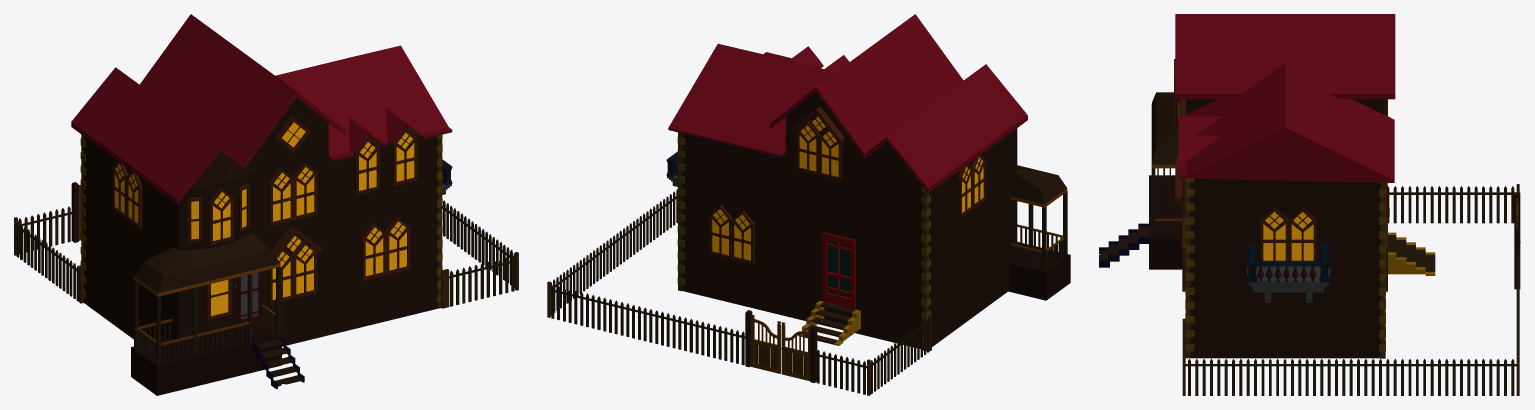
The picture shows the model from 3 angles, left to right: view 1: azimuth 30°, elevation 25°; view 2: azimuth 150°, elevation 25°; view 3: azimuth 270°, elevation 25°; orthographic projection. The views are drawn at different scales.
Visible parts, largest first — view 1: Bina, Pencereler, Balkon, Citler, Kapı.000, Cube.003, Cube.002, NurbsPath; view 2: Bina, Citler, Pencereler, Balkon, NurbsPath, Kapı.001, Cube, Cube.002, Cube.001; view 3: Bina, Citler, Pencereler, Balkon, Pencereler.001, Cube, Cube.003, Cube.001, NurbsPath.
Part boxes in pixels (x1,y1,x2,y2): Bina: (71,14,452,346); Pencereler: (112,108,451,320); Balkon: (131,232,304,395); Citler: (14,200,518,308); Kapı.000: (237,272,260,327); Cube.003: (437,134,442,308); Cube.002: (80,134,85,302); NurbsPath: (71,182,81,242); Bina: (668,14,1027,348); Citler: (547,189,931,395); Pencereler: (667,46,985,264); Balkon: (1008,165,1070,300); NurbsPath: (745,310,817,383); Kapı.001: (822,232,855,308); Cube: (797,300,860,345); Cube.002: (921,185,930,351); Cube.001: (677,132,684,291); Bina: (1175,14,1395,358); Citler: (1182,184,1519,395); Pencereler: (1174,59,1387,302); Balkon: (1099,92,1182,269); Pencereler.001: (1247,244,1329,282); Cube: (1388,232,1435,275); Cube.003: (1185,178,1194,358); Cube.001: (1379,182,1385,358); NurbsPath: (1514,192,1520,289).
Size of what is drawn, in the model's own units: 1827 by 1191 by 1702.
